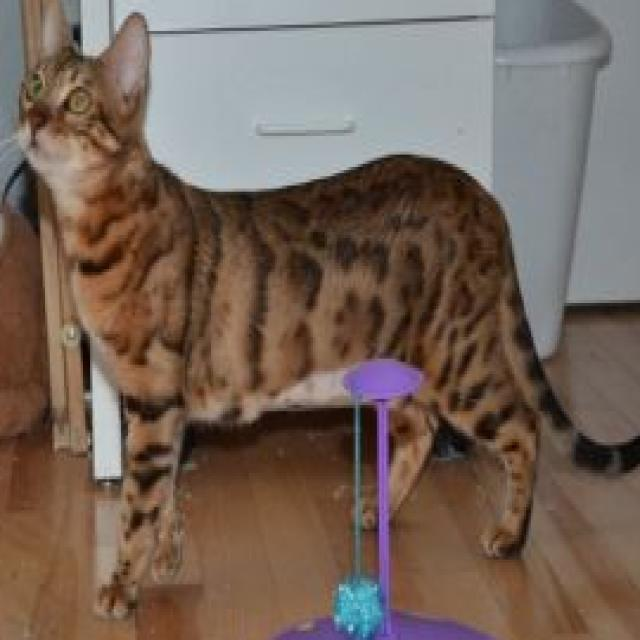Bengal: (9, 0, 640, 637)
